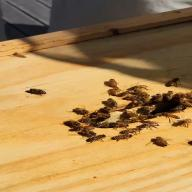Bee: (83, 130, 106, 148), (23, 84, 48, 100), (148, 137, 177, 150), (109, 130, 136, 143), (165, 76, 185, 90), (100, 76, 120, 88), (172, 116, 192, 128), (71, 106, 93, 116)
